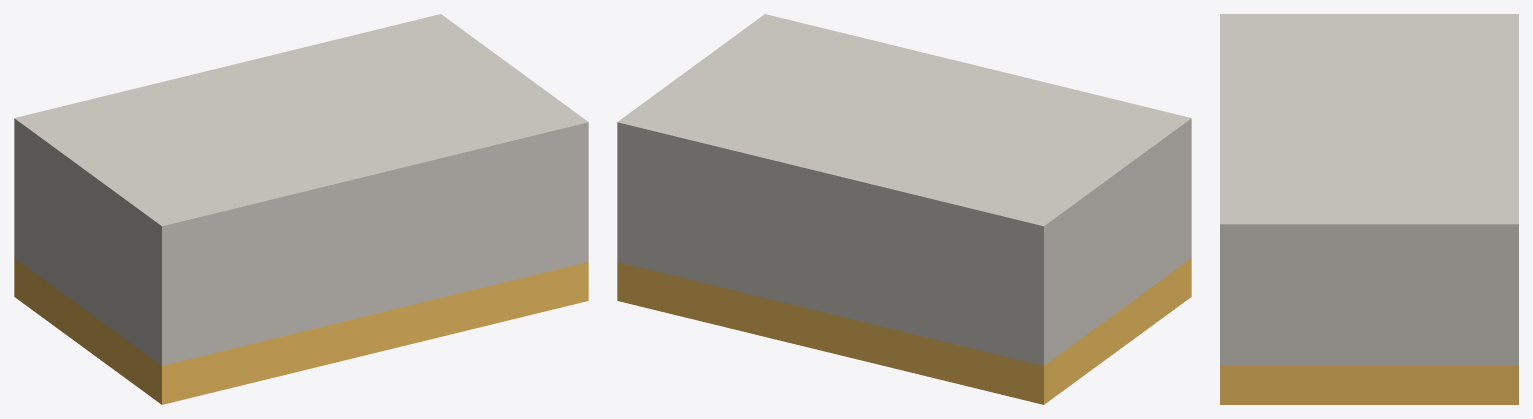
Rendered from test_environment.dae.
The picture shows the model from 3 angles, left to right: view 1: azimuth 30°, elevation 25°; view 2: azimuth 150°, elevation 25°; view 3: azimuth 270°, elevation 25°; orthographic projection.
Visible parts, largest first — view 1: Cube; view 2: Cube; view 3: Cube.
Part boxes in pixels (box(x1,y1,x2,y2)): Cube: box(14, 14, 588, 404); Cube: box(617, 14, 1191, 404); Cube: box(1220, 14, 1518, 404).
Bounding box in the file's own units: 20 × 12 × 8.
